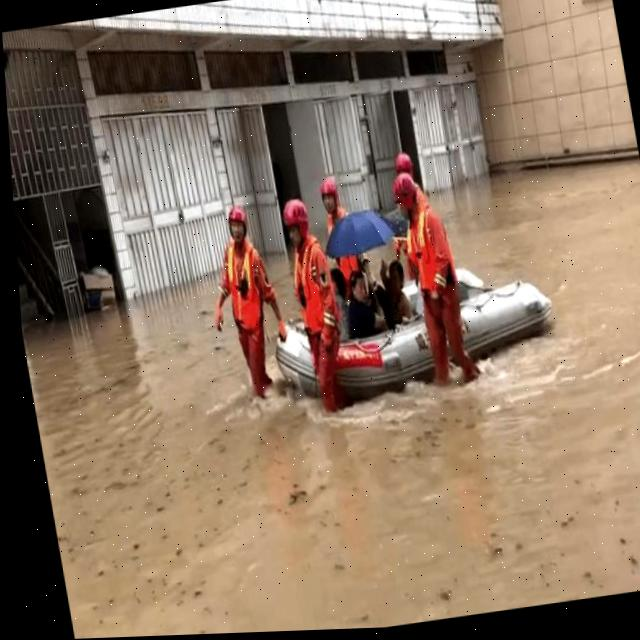civilian: (340, 265, 389, 339), (372, 251, 413, 324)
rescuer: (186, 186, 302, 417), (388, 166, 491, 407), (271, 186, 359, 420), (303, 166, 380, 311), (384, 143, 430, 213)
